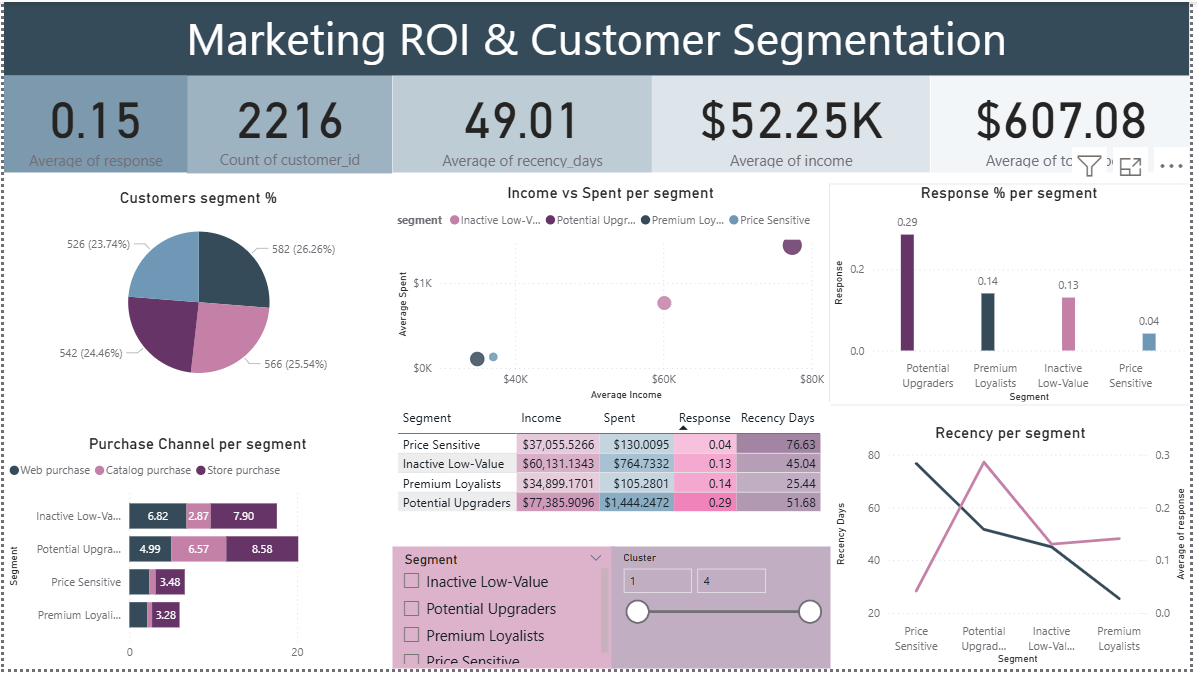

What the dashboard file says about the page in this screenshot:
{"tool":"powerbi","page":{"name":"Page 1","canvas":[1280,720],"ordinal":0},"visuals":[{"type":"card","fields":{"Values":["CountNonNull(marketing_customers_segmented.customer_id)"]},"box":[197.9,77.3,221.6,107.2],"z":0},{"type":"card","fields":{"Values":["Avg(marketing_customers_segmented.income)"]},"box":[700,80,300,104.4],"z":1000},{"type":"card","fields":{"Values":["Avg(marketing_customers_segmented.response)"]},"box":[0,80,197.8,104.4],"z":2000},{"type":"card","fields":{"Values":["Avg(marketing_customers_segmented.total_spend)"]},"box":[1000,80,280,104.4],"z":3000},{"type":"card","fields":{"Values":["Avg(marketing_customers_segmented.recency_days)"]},"box":[420,80,280,104.4],"z":4000},{"type":"textbox","box":[0,0,1279.4,79.4],"z":5000},{"type":"pieChart","title":"Customers segment %","fields":{"Y":["CountNonNull(marketing_customers_segmented.customer_id)"],"Category":["marketing_customers_segmented.segment"]},"box":[0,200,420,226.7],"z":6000},{"type":"scatterChart","title":"Income vs Spent per segment","fields":{"X":["Avg(marketing_customers_segmented.income)"],"Y":["Avg(marketing_customers_segmented.total_spend)"],"Series":["marketing_customers_segmented.segment"],"Size":["Sum(marketing_customers_segmented.response)"]},"box":[420,195.6,471.1,237.8],"z":7000},{"type":"clusteredColumnChart","title":"Response % per segment","fields":{"Category":["marketing_customers_segmented.segment"],"Y":["Avg(marketing_customers_segmented.response)"],"Series":["marketing_customers_segmented.segment"]},"box":[891.1,195.6,388.9,240],"z":8000},{"type":"barChart","title":"Purchase Channel per segment","fields":{"Category":["marketing_customers_segmented.segment"],"Y":["Avg(marketing_customers_segmented.web_purchases)","Avg(marketing_customers_segmented.catalog_purchases)","Avg(marketing_customers_segmented.store_purchases)"]},"box":[0,467.1,418.6,252.9],"z":9000},{"type":"tableEx","fields":{"Values":["marketing_customers_segmented.segment","Avg(marketing_customers_segmented.income)","Avg(marketing_customers_segmented.total_spend)","Avg(marketing_customers_segmented.response)","Avg(marketing_customers_segmented.recency_days)"]},"box":[418.6,432.9,472.9,150],"z":10000},{"type":"lineChart","title":"Recency per segment","fields":{"Category":["marketing_customers_segmented.segment"],"Y":["Avg(marketing_customers_segmented.recency_days)"],"Y2":["Avg(marketing_customers_segmented.response)"]},"box":[891.4,455.7,388.6,264.3],"z":11000},{"type":"slicer","fields":{"Values":["marketing_customers_segmented.segment"]},"box":[418.6,588.6,238.6,131.4],"z":12000},{"type":"slicer","fields":{"Values":["marketing_customers_segmented.cluster"]},"box":[655.7,588.6,235.7,131.4],"z":13000}]}

Visuals, with their boxes in screenshot pixels (x1, y1, x2, y2), scaled from the page's 1280x720 canvas onto the 1197x679 screenshot:
card - CountNonNull(marketing_customers_segmented.customer_id): x1=185 y1=73 x2=392 y2=174
card - Avg(marketing_customers_segmented.income): x1=655 y1=75 x2=935 y2=174
card - Avg(marketing_customers_segmented.response): x1=0 y1=75 x2=185 y2=174
card - Avg(marketing_customers_segmented.total_spend): x1=935 y1=75 x2=1196 y2=174
card - Avg(marketing_customers_segmented.recency_days): x1=393 y1=75 x2=655 y2=174
textbox: x1=0 y1=0 x2=1196 y2=75
"Customers segment %" pieChart: x1=0 y1=189 x2=393 y2=402
"Income vs Spent per segment" scatterChart: x1=393 y1=184 x2=833 y2=409
"Response % per segment" clusteredColumnChart: x1=833 y1=184 x2=1196 y2=411
"Purchase Channel per segment" barChart: x1=0 y1=441 x2=391 y2=678
tableEx - marketing_customers_segmented.segment x Avg(marketing_customers_segmented.income): x1=391 y1=408 x2=834 y2=550
"Recency per segment" lineChart: x1=834 y1=430 x2=1196 y2=678
slicer - marketing_customers_segmented.segment: x1=391 y1=555 x2=615 y2=678
slicer - marketing_customers_segmented.cluster: x1=613 y1=555 x2=834 y2=678
